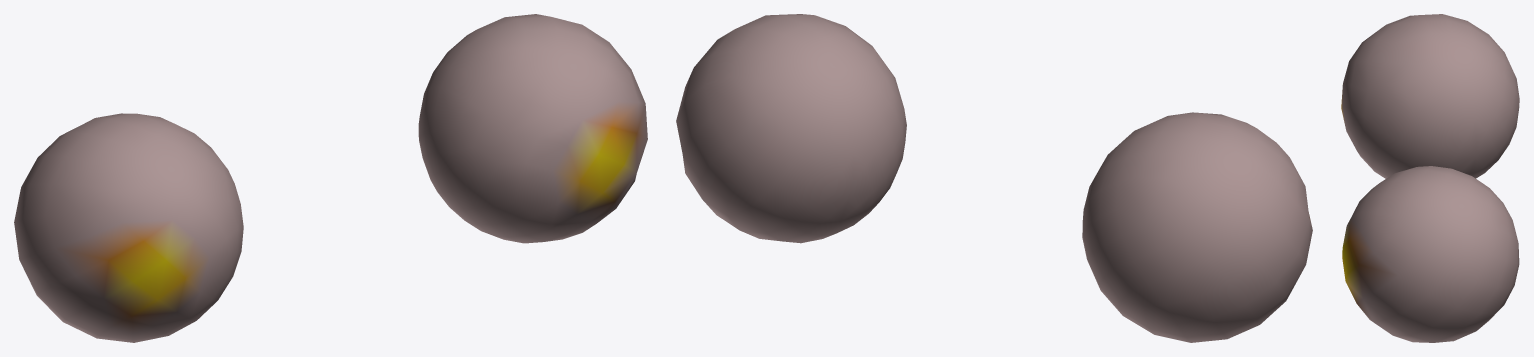
The model's file is Eyes.fbx.
3 views of the same model, side by side, from view 1: azimuth 30°, elevation 25°; view 2: azimuth 150°, elevation 25°; view 3: azimuth 270°, elevation 25° (orthographic). The views are drawn at different scales.
Visible parts, largest first — view 1: Eyes; view 2: Eyes; view 3: Eyes.
Part boxes in pixels (x1,y1,x2,y2): Eyes: (14,14,647,342); Eyes: (676,14,1312,342); Eyes: (1341,14,1519,342).
Bounding box in the file's own units: 0.5466 × 0.1799 × 0.1804.
